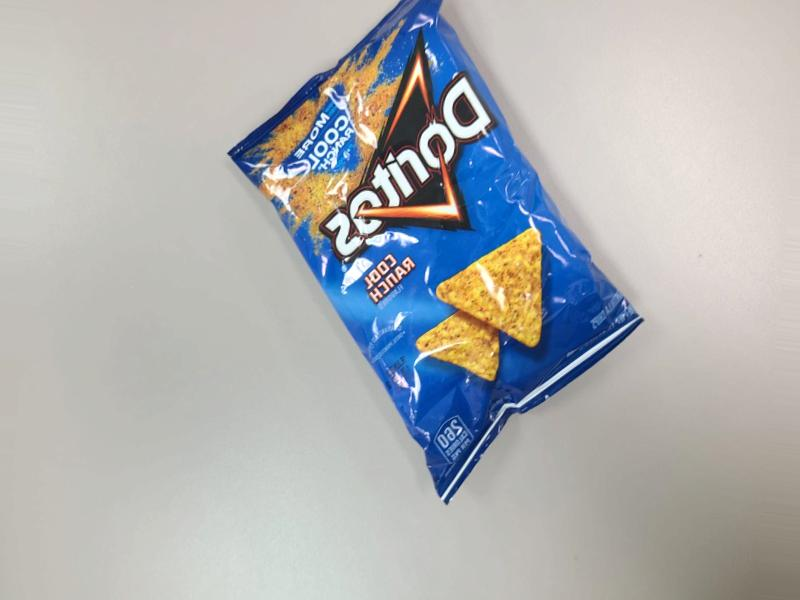doritos: (295, 88, 674, 459)
